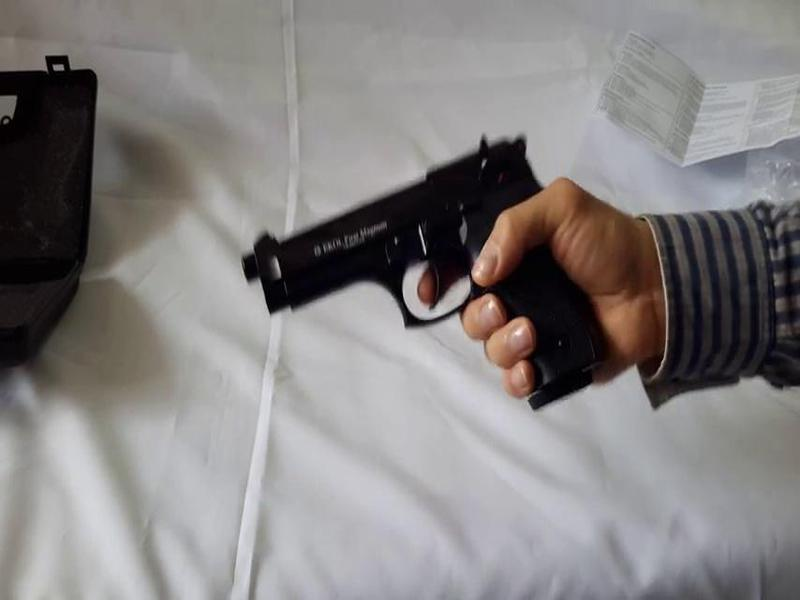Pistola: (240, 112, 622, 417)
